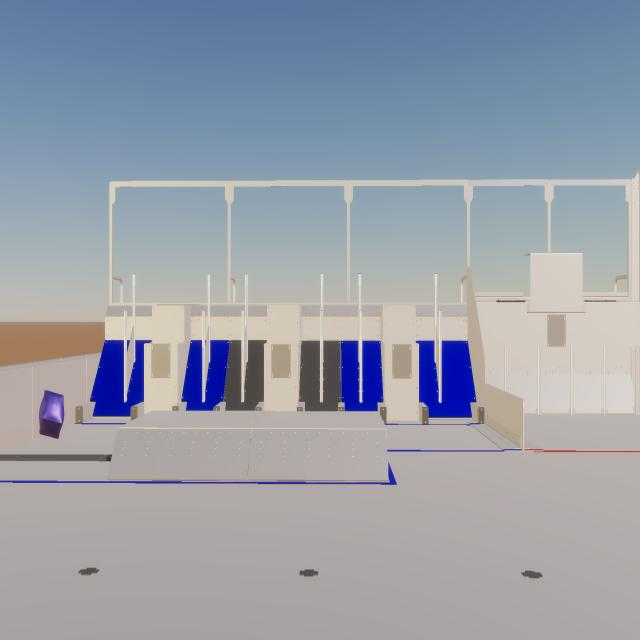frc_cube: (39, 390, 64, 439)
